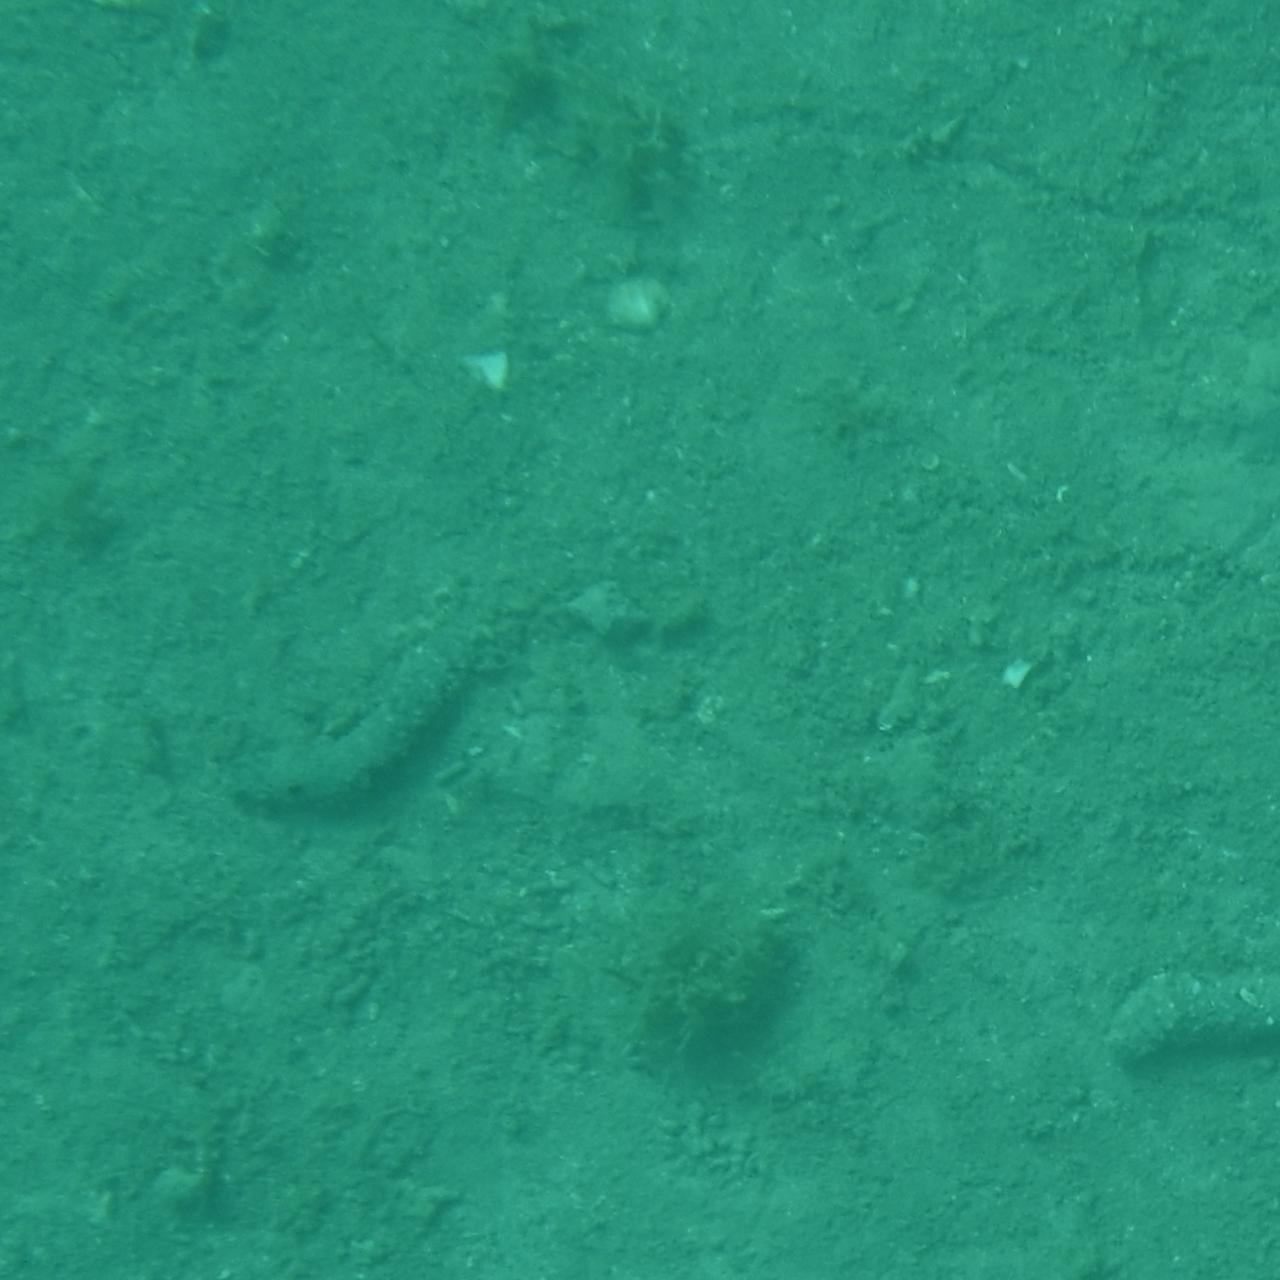Holothuria tubulosa: (215, 614, 531, 846), (1155, 545, 1280, 845), (0, 70, 236, 207), (1189, 976, 1280, 1280), (1096, 937, 1280, 1075)
